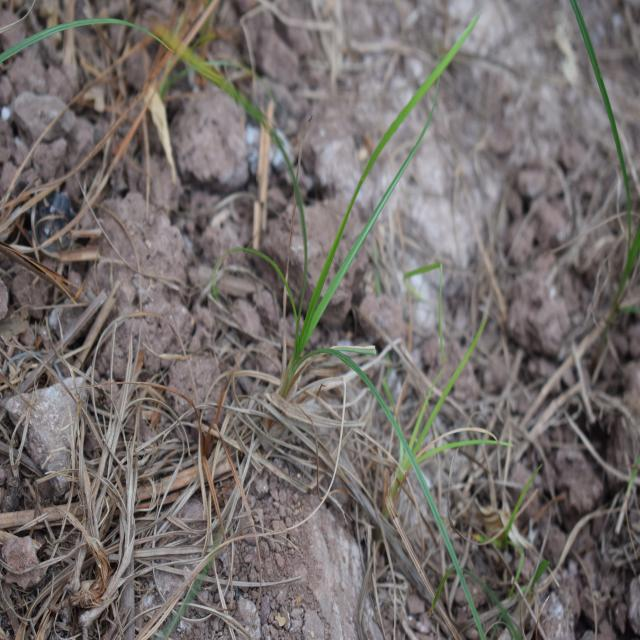sedge: (155, 40, 522, 557)
